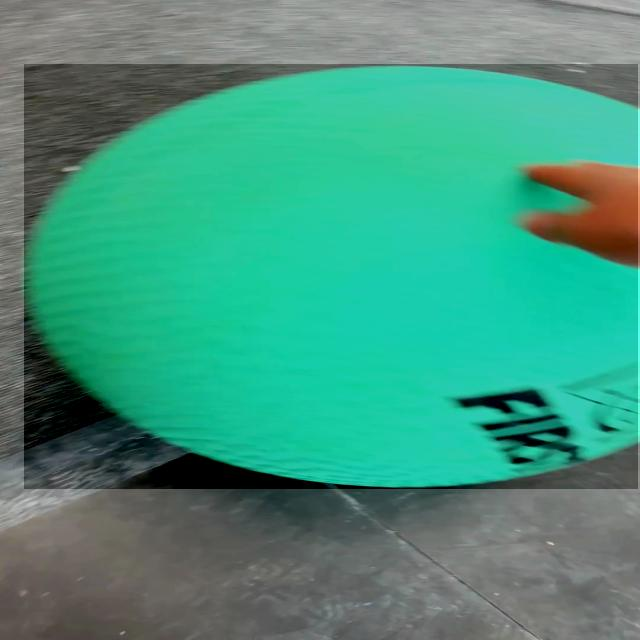Algae: (24, 64, 638, 489)
